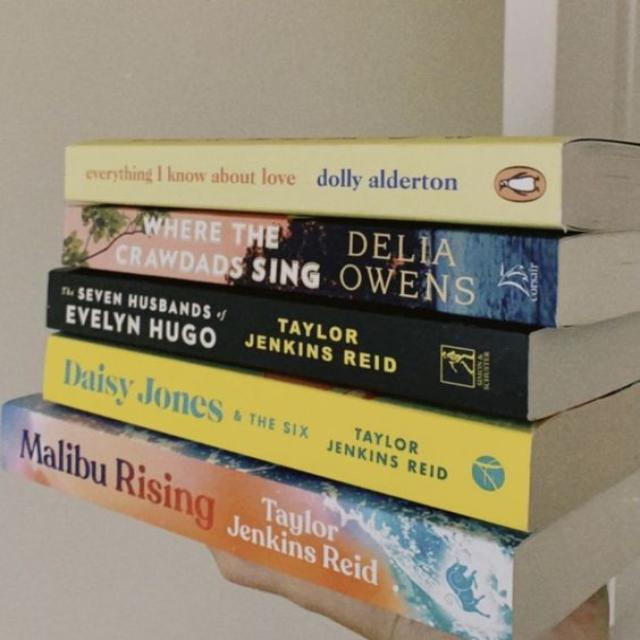book: (0, 395, 521, 639), (43, 336, 531, 528), (47, 269, 530, 420), (62, 206, 559, 327), (65, 136, 639, 234)
